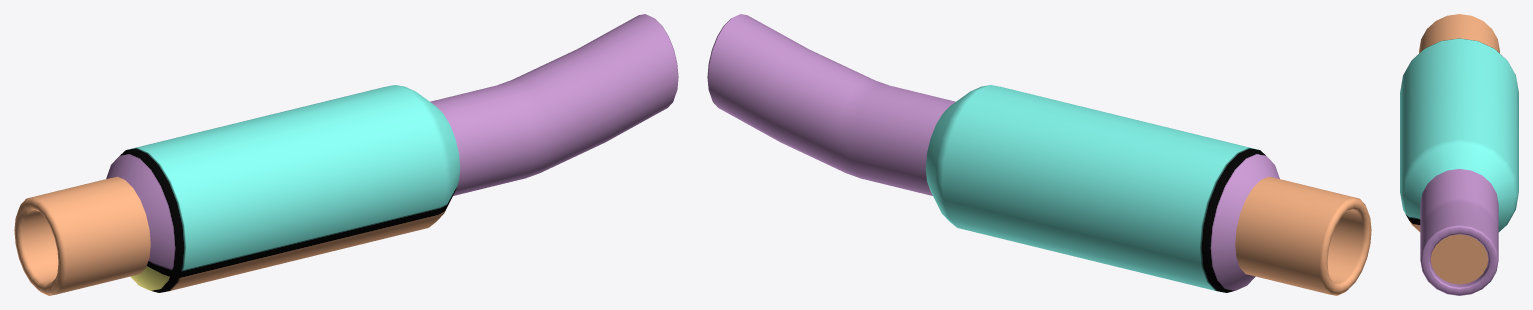
Rendered from ExhaustPipe02.fbx.
The picture shows the model from 3 angles, left to right: view 1: azimuth 30°, elevation 25°; view 2: azimuth 150°, elevation 25°; view 3: azimuth 270°, elevation 25°; orthographic projection. The views are drawn at different scales.
Visible parts, largest first — view 1: ExhaustsPipe_Body1; view 2: ExhaustsPipe_Body1; view 3: ExhaustsPipe_Body1.
Part boxes in pixels (left/top/right/bottom): ExhaustsPipe_Body1: left=14, top=14, right=678, bottom=295; ExhaustsPipe_Body1: left=707, top=14, right=1371, bottom=295; ExhaustsPipe_Body1: left=1400, top=14, right=1518, bottom=295.
Bounding box in the file's own units: 64.92 × 14.8 × 13.54.
